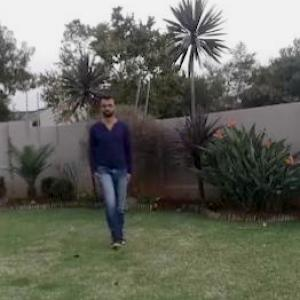follow: (92, 92, 136, 242)
